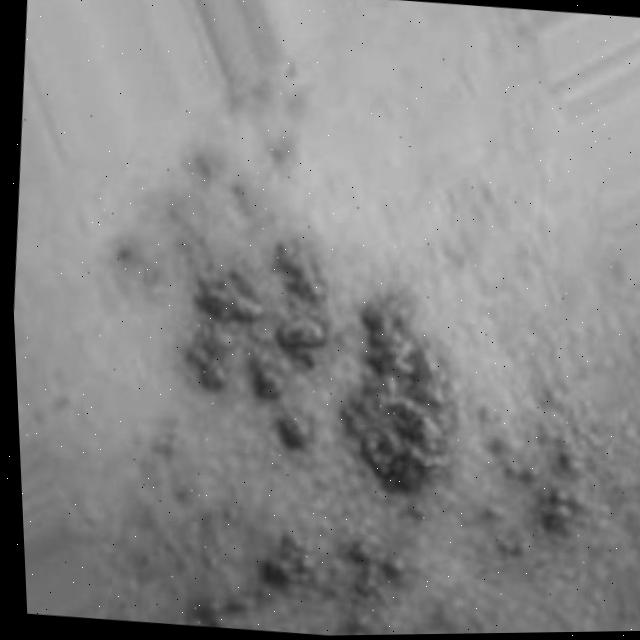Shingles: (153, 226, 626, 638)
